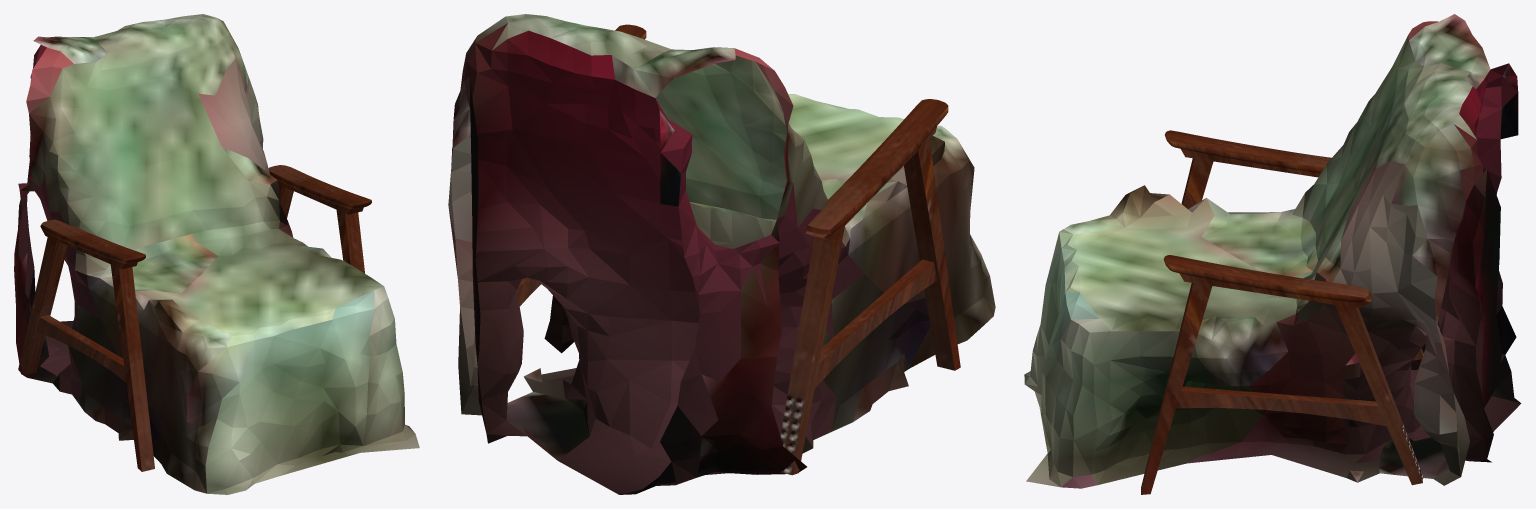
The model's file is armchair.gltf.
3 views of the same model, side by side, from view 1: azimuth 30°, elevation 25°; view 2: azimuth 150°, elevation 25°; view 3: azimuth 270°, elevation 25° (orthographic). The views are drawn at different scales.
Visible parts, largest first — view 1: Body; view 2: Body; view 3: Body.
Boxes of the visible parts, x1,y1,x2,y2 form: Body: (14, 14, 419, 494); Body: (448, 14, 995, 494); Body: (1024, 14, 1521, 494).
Size of the model in its own units: 0.8196 by 0.9879 by 1.22.
Materials: 2 (2 with a texture image).
